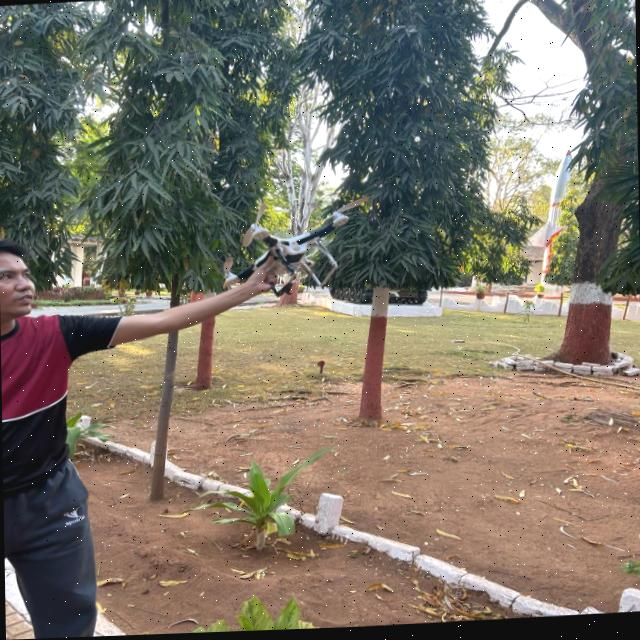drone: (216, 192, 380, 313)
